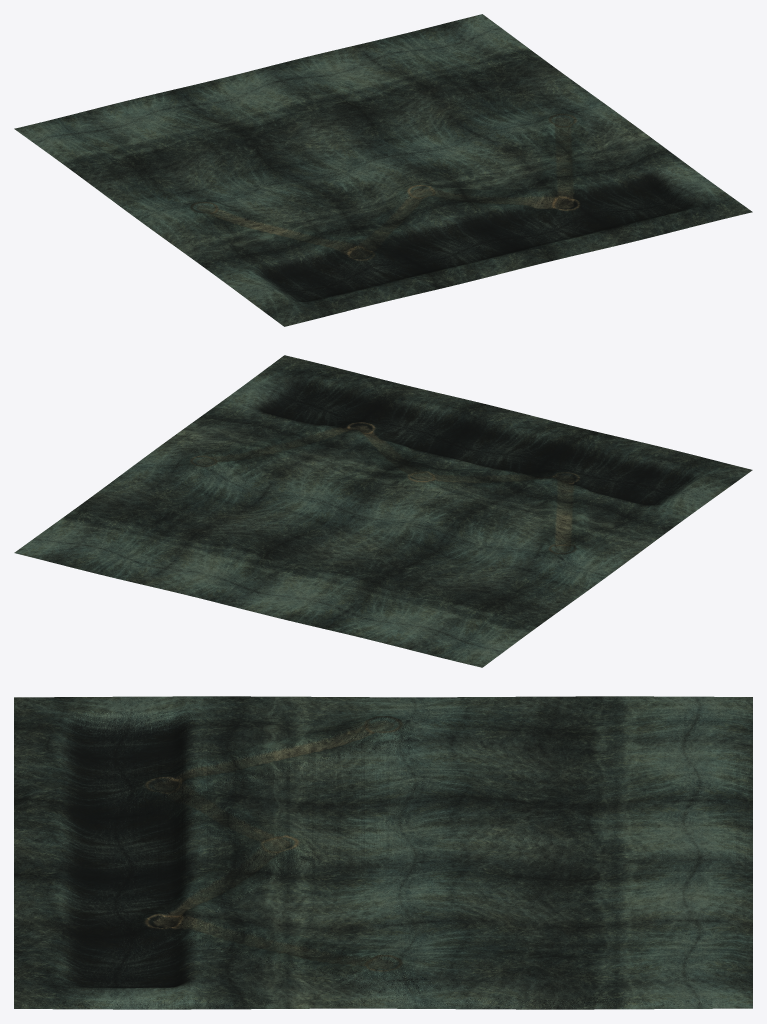
Rendered from regatta-terrain.glb.
3 views of the same model, one above another, from view 1: azimuth 30°, elevation 25°; view 2: azimuth 150°, elevation 25°; view 3: azimuth 270°, elevation 25° (orthographic). The views are drawn at different scales.
Visible parts, largest first — view 1: RegattaTerrain; view 2: RegattaTerrain; view 3: RegattaTerrain.
Boxes of the visible parts, left/top/right/bottom form: RegattaTerrain: left=14, top=14, right=752, bottom=326; RegattaTerrain: left=14, top=355, right=752, bottom=667; RegattaTerrain: left=14, top=696, right=752, bottom=1009.
Size of the model in its own units: 128 by 3.99 by 128.
1 material, 1 textured.
